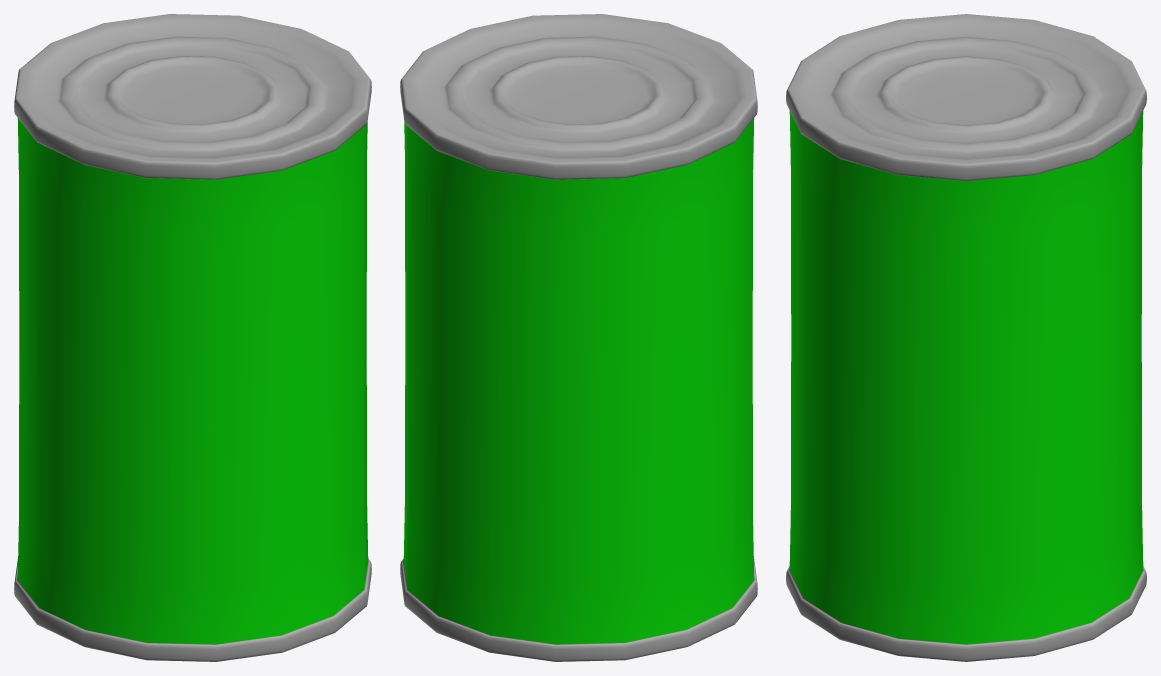
The model's file is CanHPVer2_GEO.fbx.
3 views of the same model, side by side, from view 1: azimuth 30°, elevation 25°; view 2: azimuth 150°, elevation 25°; view 3: azimuth 270°, elevation 25° (orthographic).
Visible parts, largest first — view 1: CanVER2_GEO1; view 2: CanVER2_GEO1; view 3: CanVER2_GEO1.
Boxes of the visible parts, x1,y1,x2,y2 form: CanVER2_GEO1: (14,14,371,661); CanVER2_GEO1: (400,14,757,661); CanVER2_GEO1: (786,14,1146,661).
Bounding box in the file's own units: 6.97 × 10.6 × 6.97.
